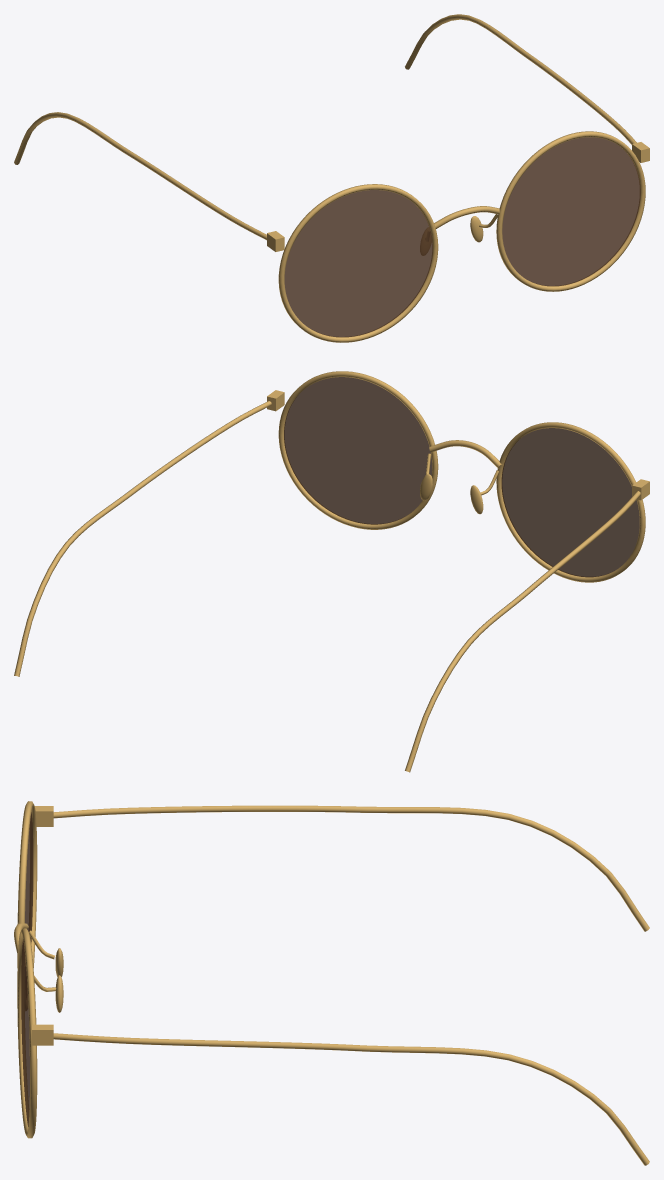
File: BM-S04_Noor_Gold_Brown_lens.glb
3 renders of one model, top to bottom at view 1: azimuth 30°, elevation 25°; view 2: azimuth 150°, elevation 25°; view 3: azimuth 270°, elevation 25°, orthographic. The views are drawn at different scales.
Parts seen in each view (by area): view 1: Noor_Gold_Brown_lens_Lenses, Noor_Gold_Brown_lens_Metal; view 2: Noor_Gold_Brown_lens_Lenses, Noor_Gold_Brown_lens_Metal; view 3: Noor_Gold_Brown_lens_Metal, Noor_Gold_Brown_lens_Lenses.
Boxes of the visible parts, left/top/right/bottom form: Noor_Gold_Brown_lens_Lenses: left=284, top=137, right=640, bottom=337; Noor_Gold_Brown_lens_Metal: left=14, top=14, right=649, bottom=342; Noor_Gold_Brown_lens_Lenses: left=284, top=377, right=639, bottom=577; Noor_Gold_Brown_lens_Metal: left=14, top=371, right=649, bottom=772; Noor_Gold_Brown_lens_Metal: left=14, top=801, right=649, bottom=1165; Noor_Gold_Brown_lens_Lenses: left=21, top=812, right=33, bottom=1126.
Size of the model in its own units: 0.1364 by 0.0495 by 0.1509.
